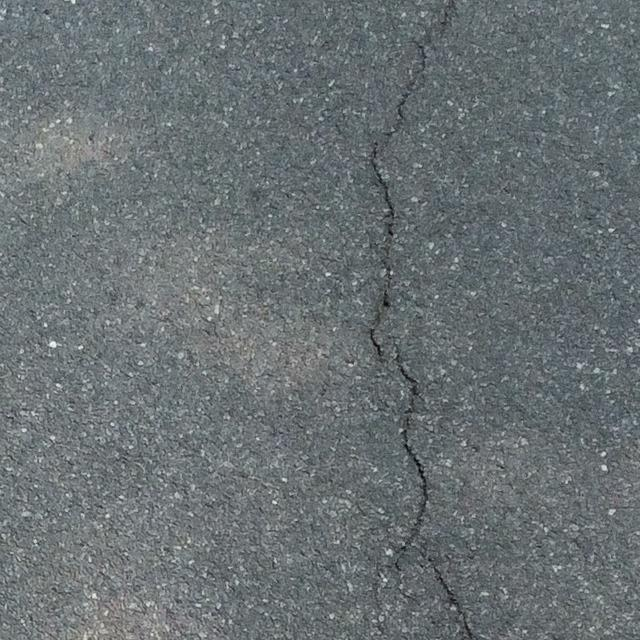LongitudinalCrack: (363, 1, 454, 363), (386, 341, 470, 636)
